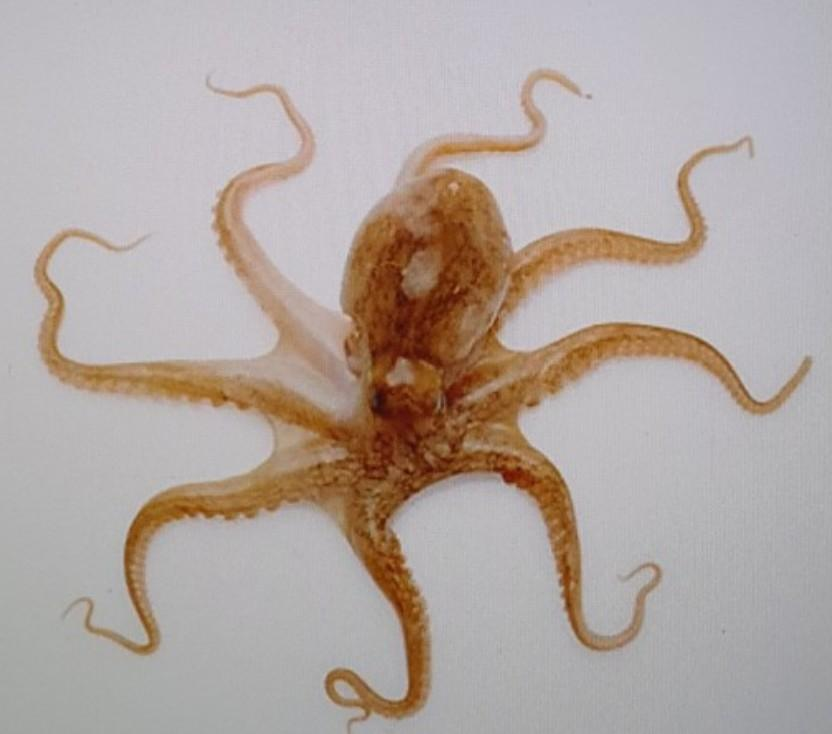Cephalopod: (32, 71, 812, 733)
